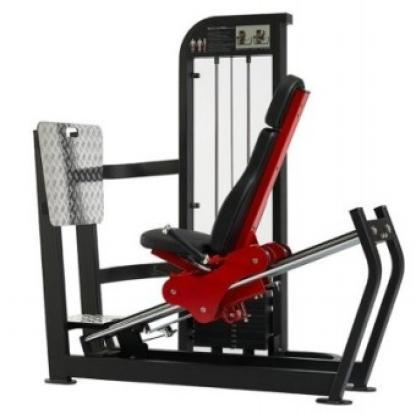leg press: (20, 7, 410, 410)
